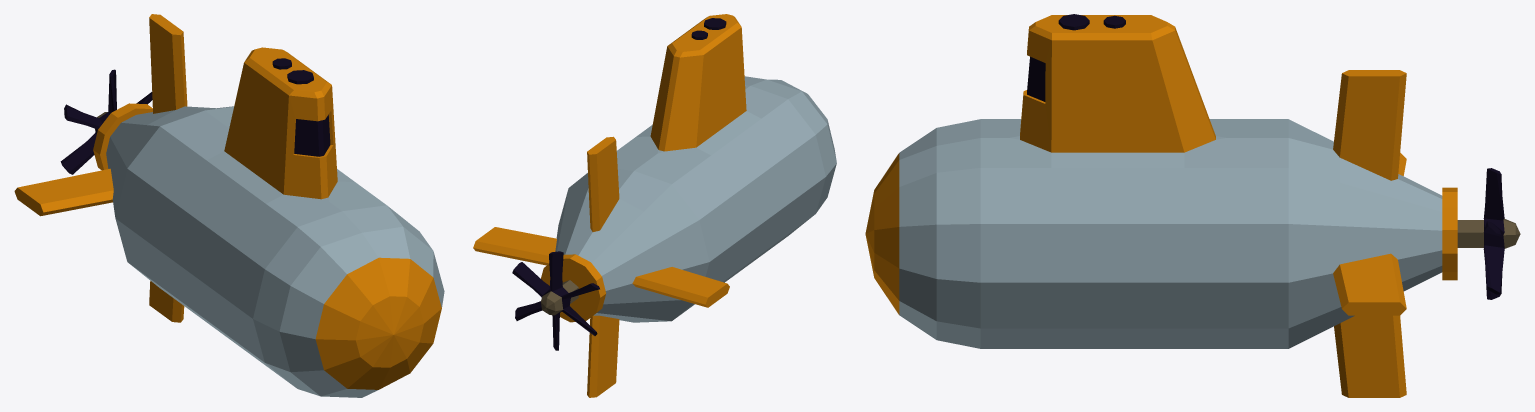
The model's file is submarine.glb.
3 renders of one model, left to right at view 1: azimuth 30°, elevation 25°; view 2: azimuth 150°, elevation 25°; view 3: azimuth 270°, elevation 25°, orthographic. The views are drawn at different scales.
Parts seen in each view (by area): view 1: submarine, propeller, conningtowerdetail1; view 2: submarine, propeller, conningtowerdetail1; view 3: submarine, propeller, conningtowerdetail1.
Part boxes in pixels (x1,y1,x2,y2): submarine: (14,14,444,397); propeller: (60,69,152,174); conningtowerdetail1: (272,58,313,84); submarine: (473,14,836,397); propeller: (512,251,599,350); conningtowerdetail1: (691,18,726,39); submarine: (865,15,1457,397); propeller: (1457,168,1520,299); conningtowerdetail1: (1058,14,1125,30).
Size of the model in its own units: 4.61 by 5.37 by 8.52.
